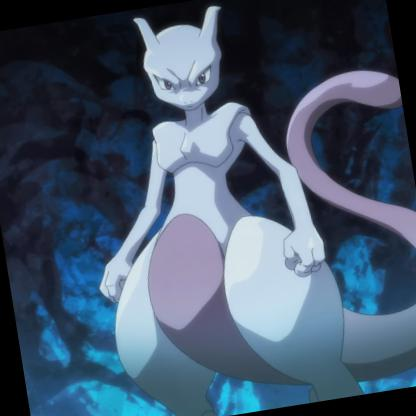Mewtwo: (1, 18, 416, 416)
